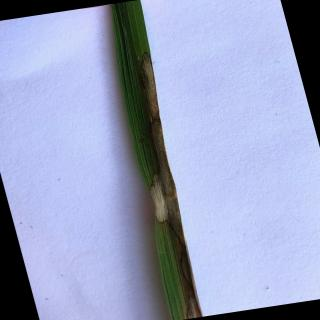Hawar-Daun: (150, 120, 185, 242), (141, 55, 161, 122), (150, 174, 168, 224), (177, 250, 195, 282), (184, 295, 205, 320)
